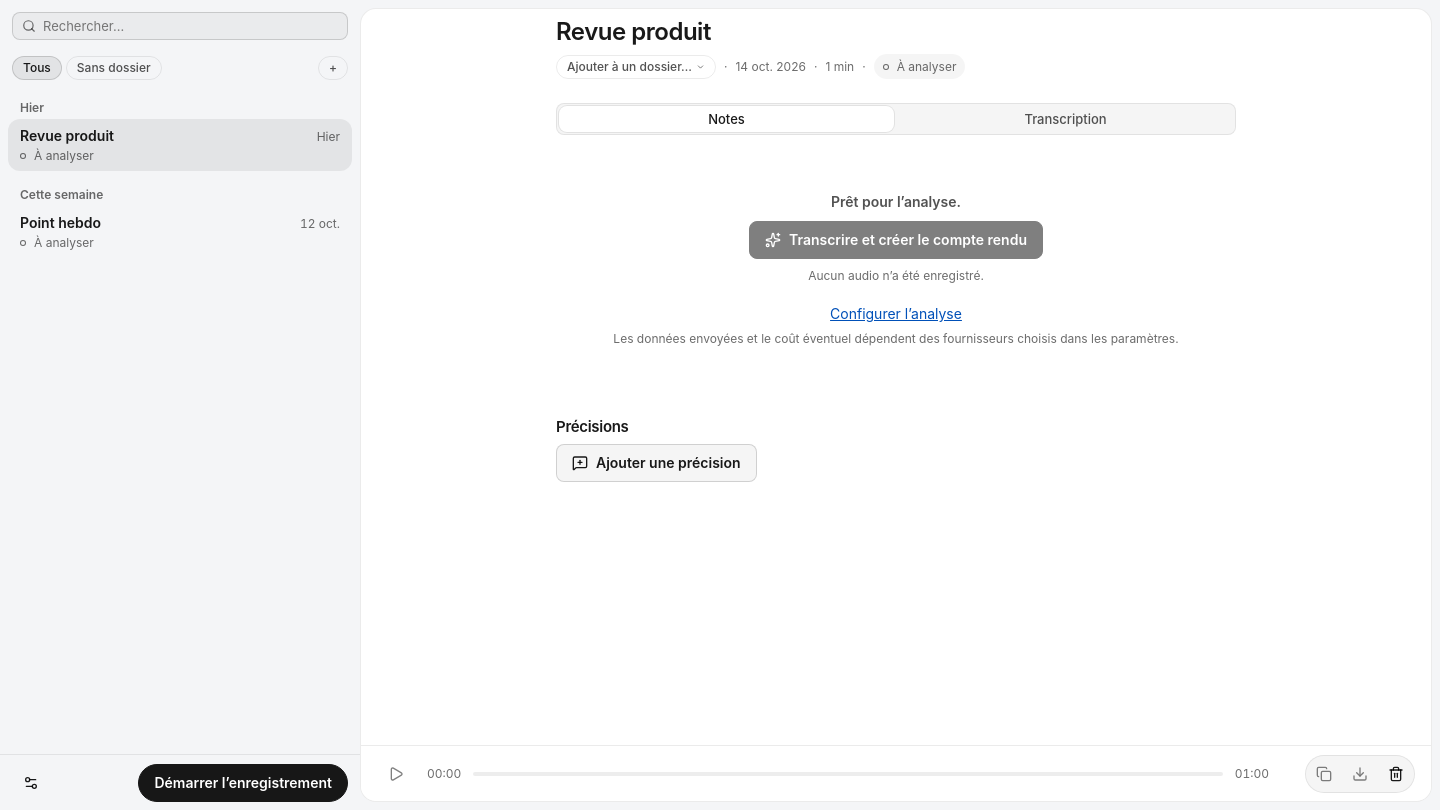
it: Meeting list and card › opens the settings in the card and returns to a meeting from the list
What coordinates should you click on to do the following:
click the button named "Paramètres"
I would click on:
 (31, 782)
Its box is [12,764,50,802].
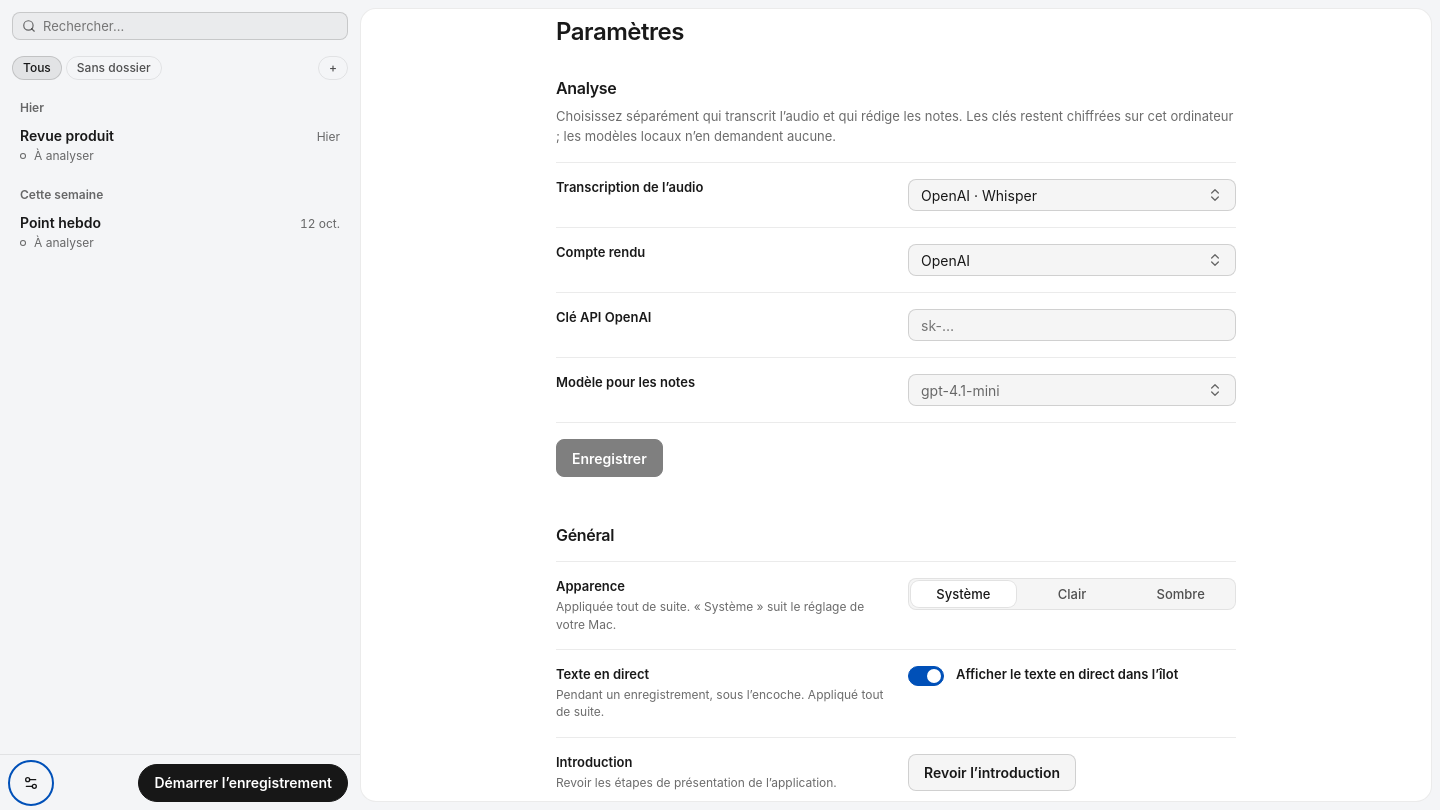
Expected: the heading "Paramètres" is shown, [556,17,684,46]
What coordinates should you click on to do the following:
click the option "Point hebdo 12 oct. À analyser"
I would click on:
 (60, 222)
Its box is [8,206,352,258].
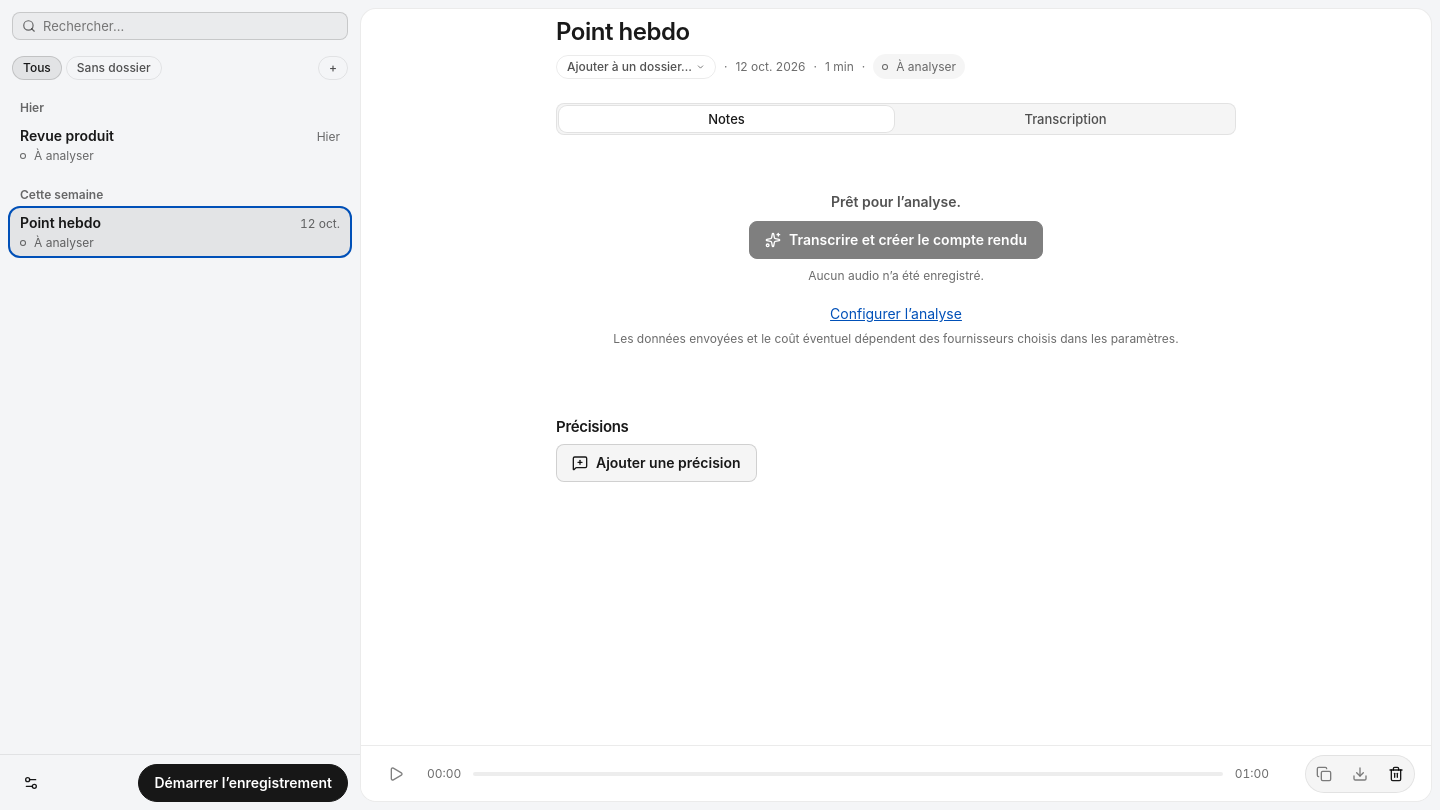
Expected: the heading "Point hebdo" is shown, [556,17,690,46]
